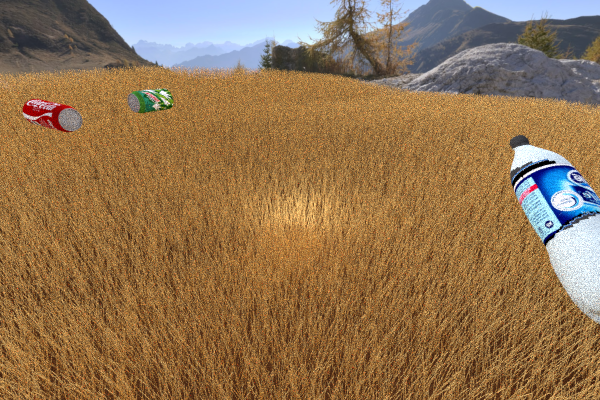Plastic Bottle: (509, 135, 600, 328), (22, 98, 82, 132), (127, 88, 173, 113)
